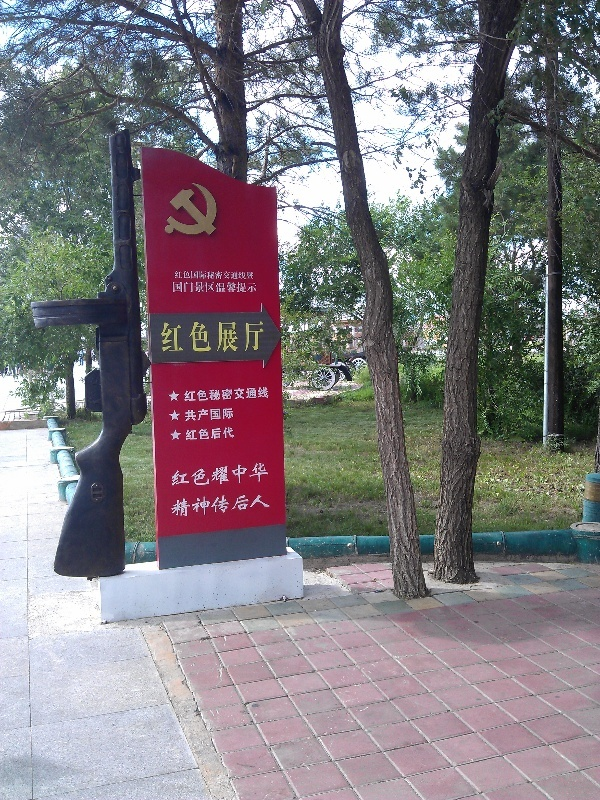text: (161, 319, 176, 355), (177, 319, 192, 355), (193, 319, 208, 355), (209, 319, 224, 355), (225, 319, 240, 355), (241, 319, 256, 355), (177, 462, 192, 490), (193, 462, 208, 490), (209, 462, 224, 490), (225, 462, 240, 490), (241, 462, 256, 490), (177, 490, 192, 518), (193, 490, 208, 518), (209, 490, 224, 518), (225, 490, 240, 518), (241, 490, 256, 518), (257, 462, 271, 490), (257, 490, 271, 518), (257, 319, 266, 355), (193, 386, 208, 403), (209, 386, 224, 403), (225, 386, 240, 403), (241, 386, 256, 403), (193, 426, 208, 443), (209, 426, 224, 443), (193, 407, 208, 423), (209, 407, 224, 423), (257, 386, 270, 403), (241, 282, 257, 294), (177, 282, 192, 294), (193, 282, 208, 294), (209, 282, 224, 294), (225, 282, 240, 294), (225, 426, 235, 443), (170, 462, 176, 490), (170, 490, 176, 518), (225, 407, 235, 423), (184, 386, 192, 403), (177, 271, 192, 280), (193, 271, 208, 280), (209, 271, 224, 280), (225, 271, 240, 280), (184, 407, 192, 423), (241, 271, 255, 280), (185, 426, 192, 443), (172, 282, 176, 294), (174, 271, 176, 280)
